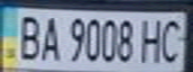0: (100, 16, 121, 63), (84, 15, 103, 63)
8: (115, 16, 139, 64)
9: (63, 14, 84, 63)
A: (36, 12, 63, 62)
B: (12, 11, 45, 62)
C: (157, 15, 187, 64)
H: (136, 16, 166, 64)
